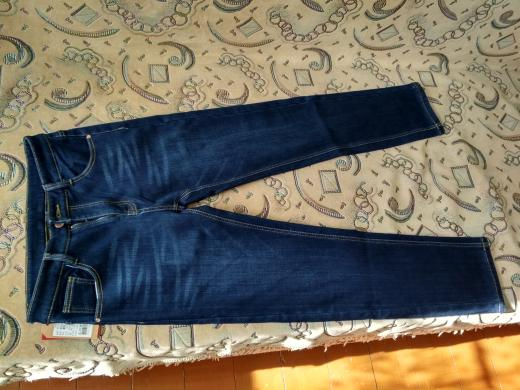jeans: (34, 81, 502, 313)
